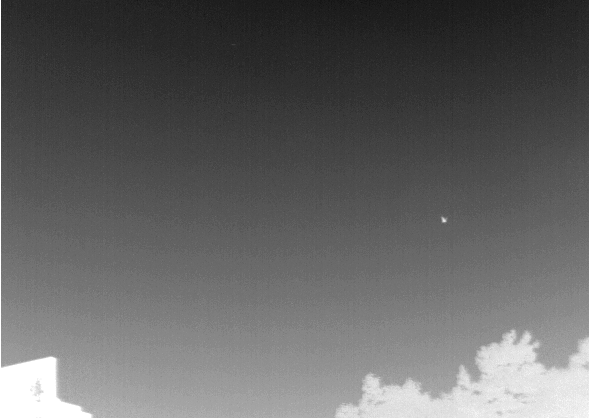dim target: (440, 216, 448, 224)
